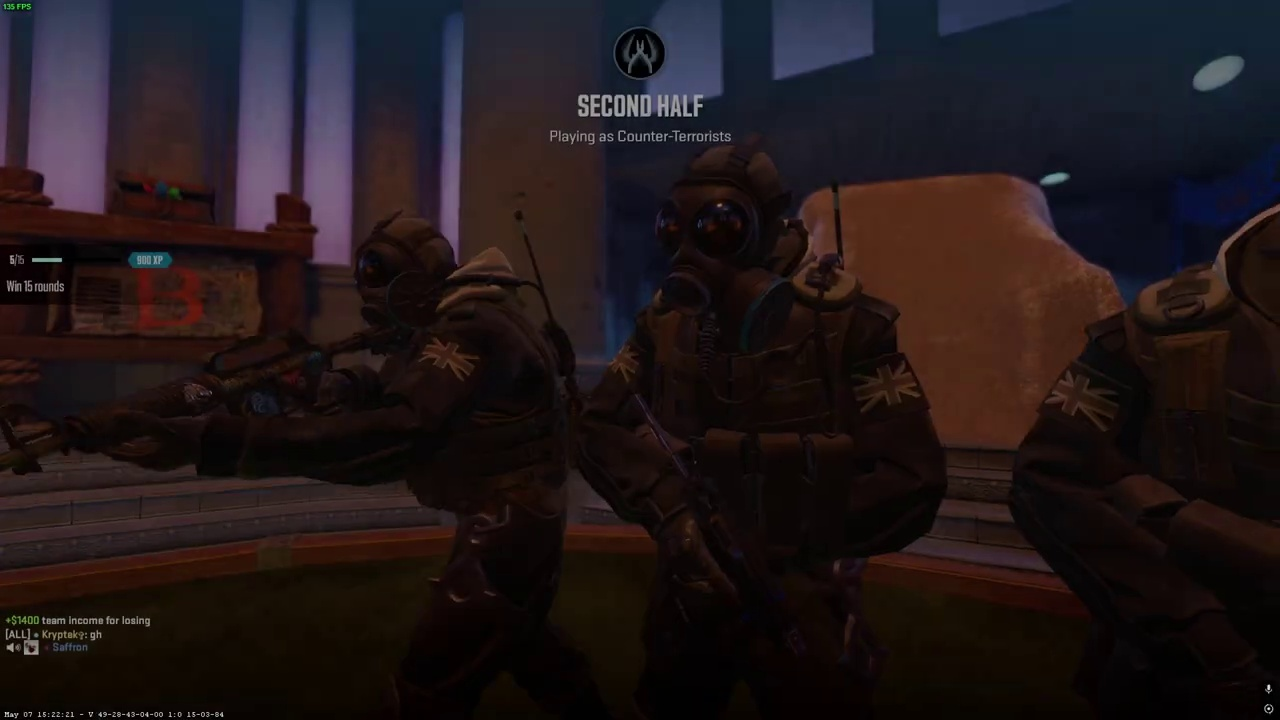CT: (582, 139, 948, 720), (314, 208, 581, 720), (1076, 197, 1280, 720)
